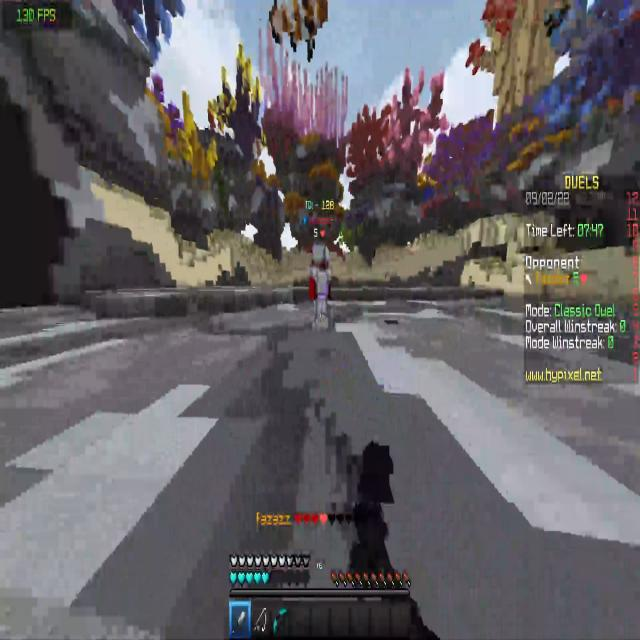Player: (301, 228, 340, 337)
